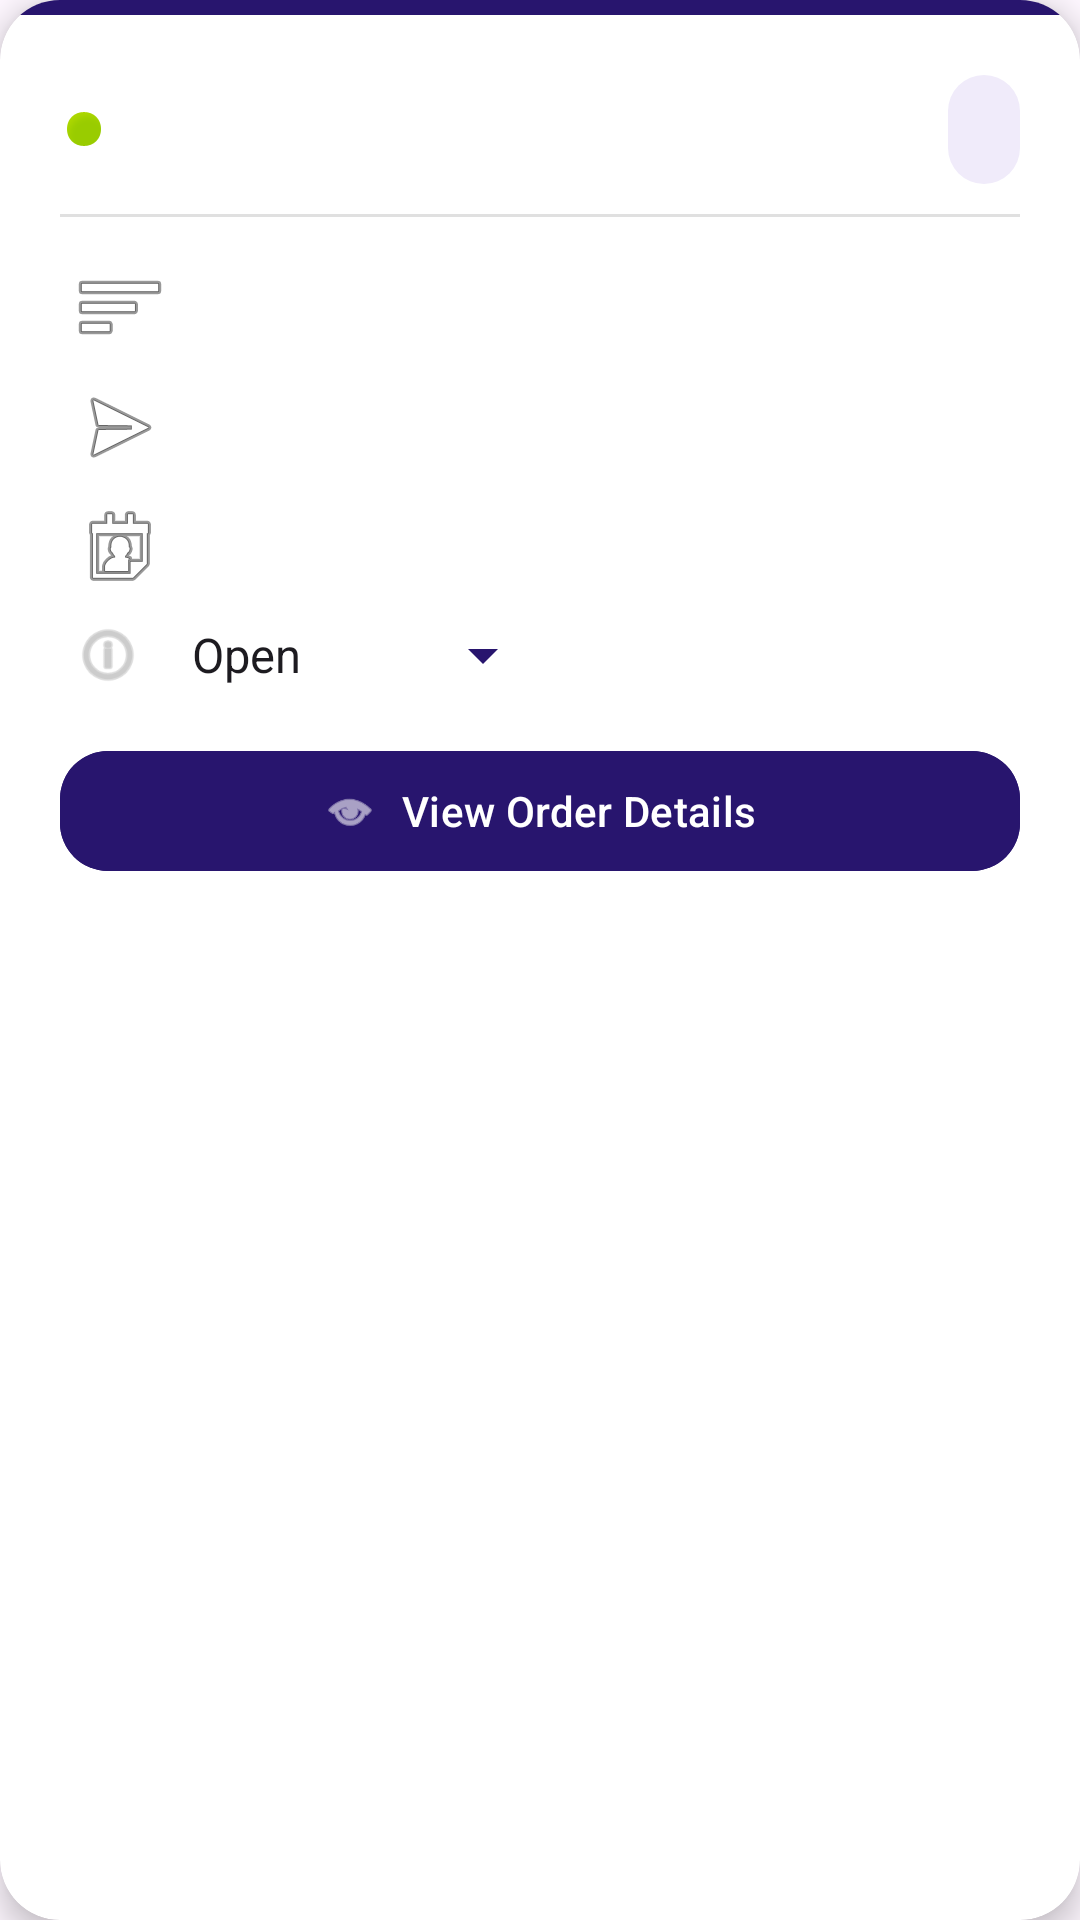

Named icons in this screenshot (1080w x 1920h) and their bounding boxes, (x1, y1, x2, y2):
info details: (83, 630, 133, 680)
